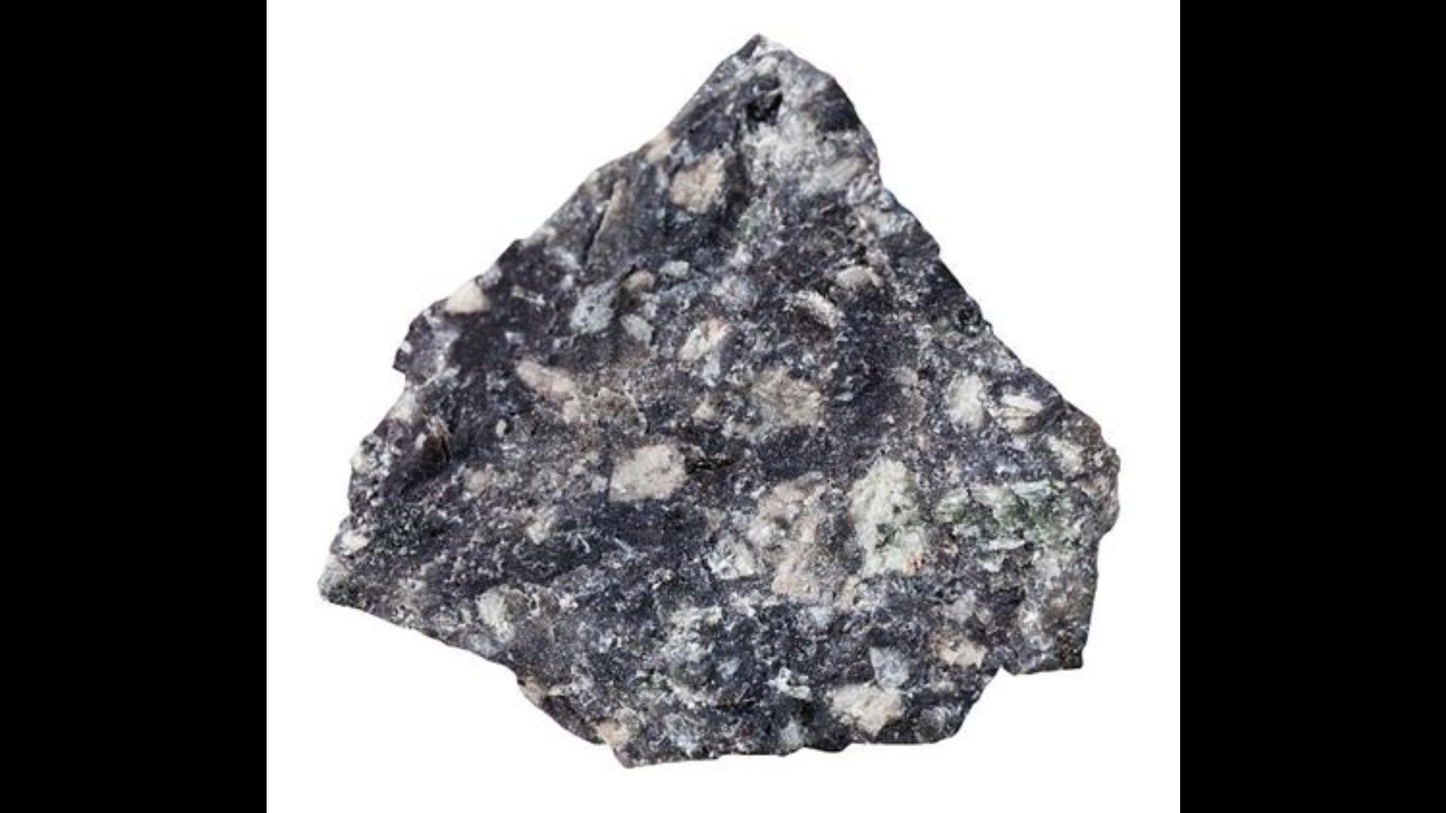rock: (320, 37, 1114, 763), (320, 39, 1116, 763)
